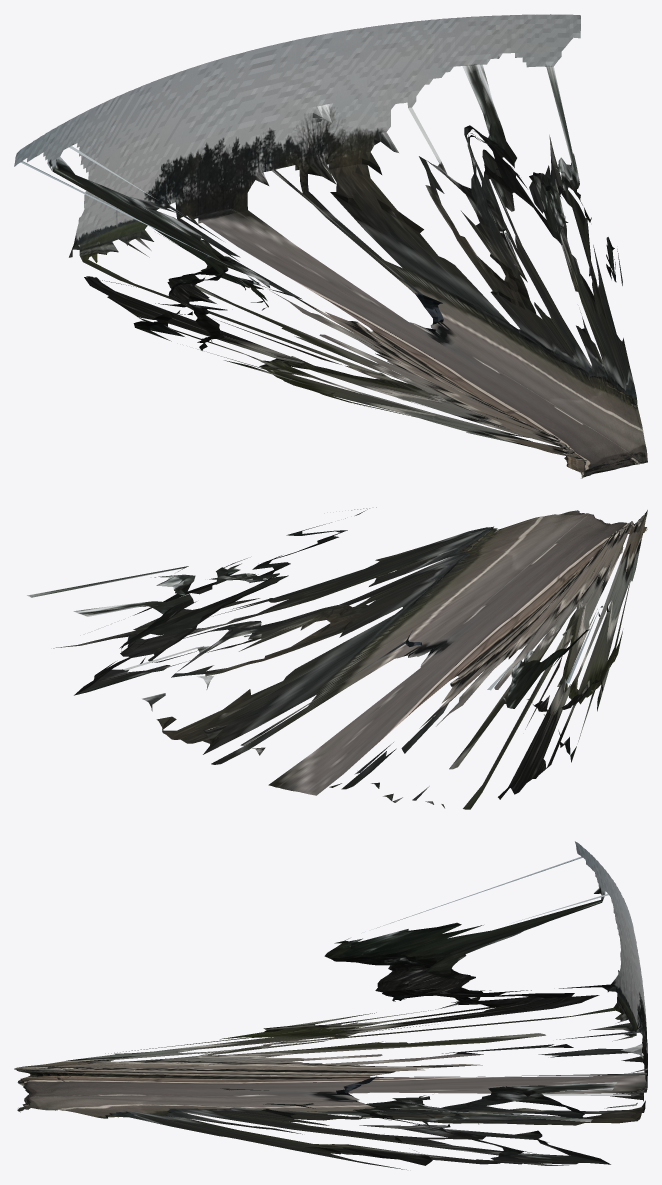
3 views of the same model, one above another, from view 1: azimuth 30°, elevation 25°; view 2: azimuth 150°, elevation 25°; view 3: azimuth 270°, elevation 25° (orthographic). The views are drawn at different scales.
Parts seen in each view (by area): view 1: defaultobject; view 2: defaultobject; view 3: defaultobject.
Part boxes in pixels (box(x1,y1,x2,y2)): defaultobject: box(14, 14, 647, 478); defaultobject: box(27, 507, 647, 809); defaultobject: box(14, 841, 647, 1169).
Size of the model in its own units: 40.7 by 11.79 by 44.85.
Materials: 1 (1 with a texture image).
